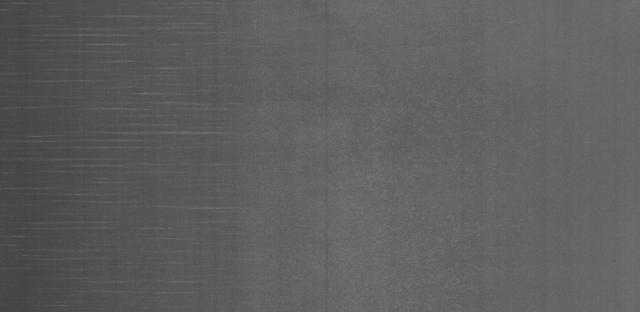waist_folding: (20, 20, 264, 270)
